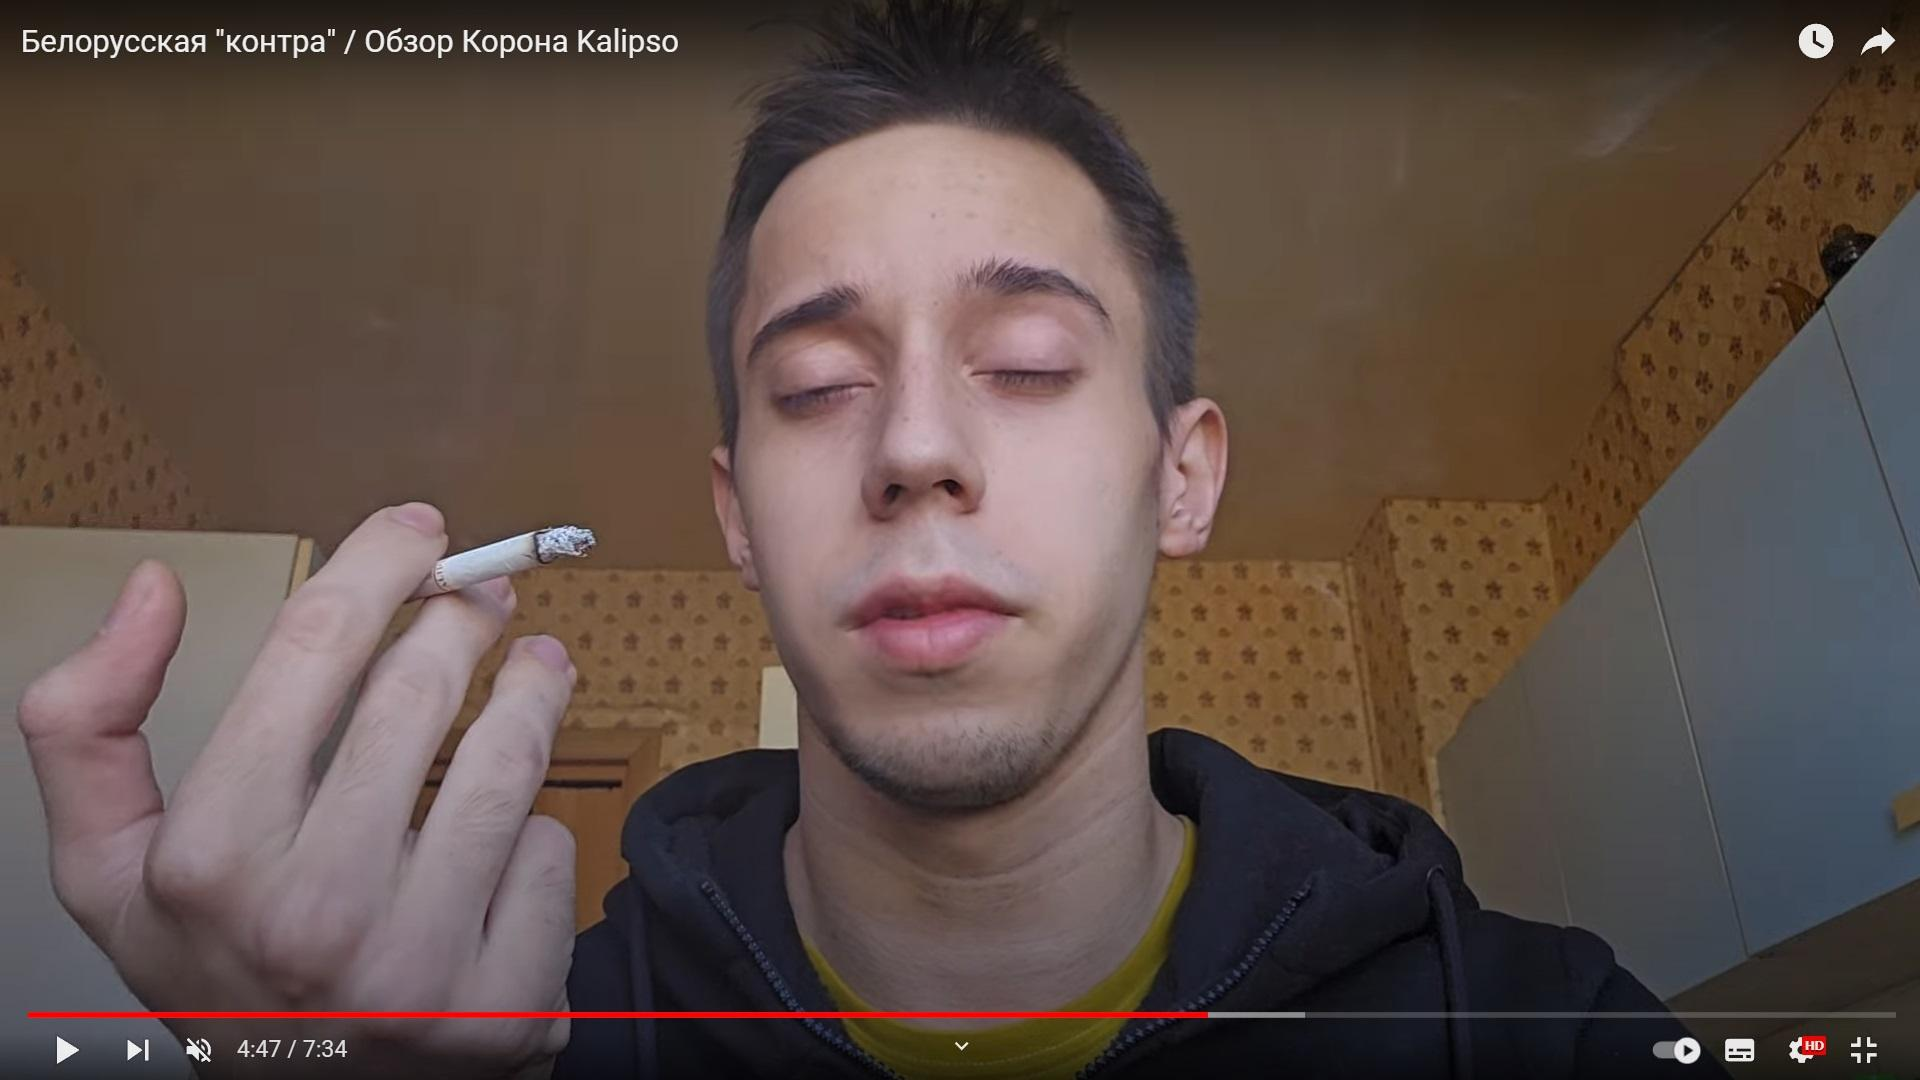cigarette: (404, 524, 597, 605)
